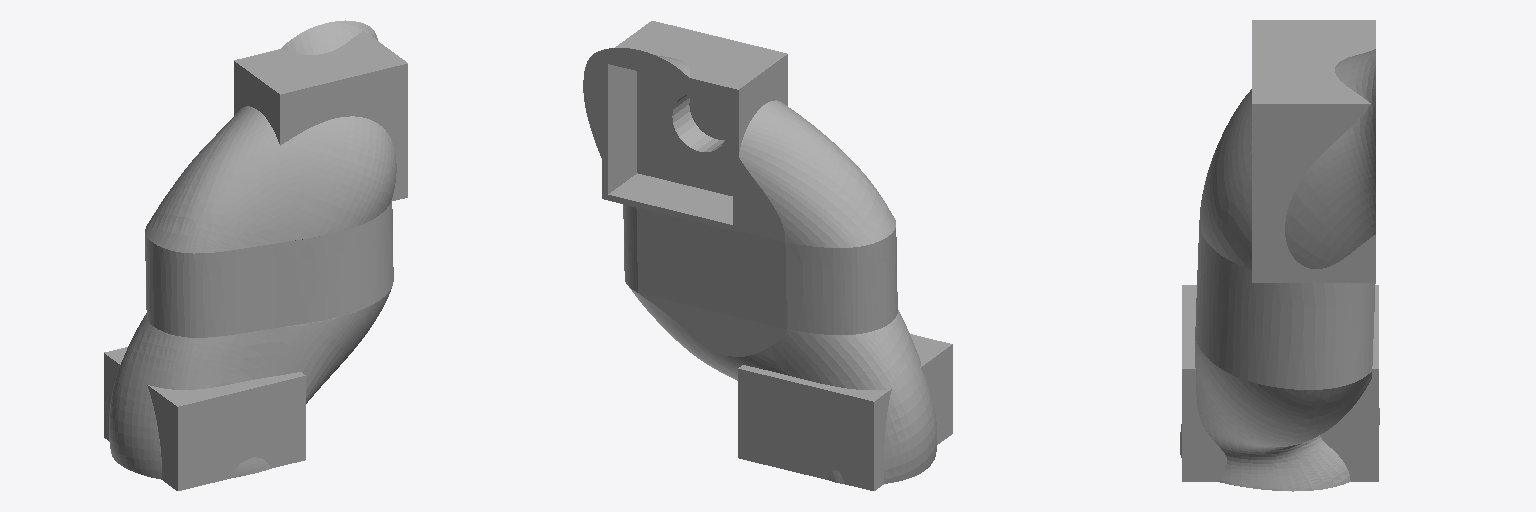
The robot description file, URDF, robot "FrogBot4_top-FrogBot4-z-6_bottom-FrogBot4-z-6":
<?xml version="1.0" ?>
<robot name="FrogBot4_top-FrogBot4-z-6_bottom-FrogBot4-z-6">

<material name="pla_5_percent_infill">
  <color rgba="0.700 0.700 0.700 1.000"/>
</material>

<link name="base_link">
  <inertial>
    <origin xyz="0 0 0" rpy="0 0 0"/>
    <mass value="1.4608203761339813"/>
    <inertia ixx="0.00496034401110324" iyy="0.010259632804669863" izz="0.010457868746855814" ixy="4.519338143051983e-05" iyz="5.808312742508133e-05" ixz="-0.001193761897574285"/>
  </inertial>
  <visual>
    <origin xyz="0 0 0" rpy="0 0 0"/>
    <geometry>
      <mesh filename="simple_meshes/base_link.stl" scale="0.001 0.001 0.001"/>
    </geometry>
    <material name="pla_5_percent_infill"/>
  </visual>
  <collision>
    <origin xyz="0 0 0" rpy="0 0 0"/>
    <geometry>
      <mesh filename="simple_meshes/base_link.stl" scale="0.001 0.001 0.001"/>
    </geometry>
  </collision>
</link>

<link name="body_1_0_1">
  <inertial>
    <origin xyz="-0.039935 -0.102508 -0.020563" rpy="0 0 0"/>
    <mass value="0.08391337745337313"/>
    <inertia ixx="0.000107708054929511" iyy="0.00012337021791642203" izz="3.687093798814488e-05" ixy="9.901716534195895e-07" iyz="2.7818110024143534e-06" ixz="-1.518831388443177e-05"/>
  </inertial>
  <visual>
    <origin xyz="-0.039935 -0.102508 -0.020563" rpy="0 0 0"/>
    <geometry>
      <mesh filename="simple_meshes/body_1_0_1.stl" scale="0.001 0.001 0.001"/>
    </geometry>
    <material name="pla_5_percent_infill"/>
  </visual>
  <collision>
    <origin xyz="-0.039935 -0.102508 -0.020563" rpy="0 0 0"/>
    <geometry>
      <mesh filename="simple_meshes/body_1_0_1.stl" scale="0.001 0.001 0.001"/>
    </geometry>
  </collision>
</link>

<link name="body_1_1_1">
  <inertial>
    <origin xyz="0.084829 -0.102508 0.010182" rpy="0 0 0"/>
    <mass value="0.09690447784595647"/>
    <inertia ixx="8.486720446513165e-05" iyy="0.00013339551480656545" izz="7.315573048027662e-05" ixy="-1.956951799241208e-06" iyz="1.53670200892539e-06" ixz="-2.678860930222318e-05"/>
  </inertial>
  <visual>
    <origin xyz="0.084829 -0.102508 0.010182" rpy="0 0 0"/>
    <geometry>
      <mesh filename="simple_meshes/body_1_1_1.stl" scale="0.001 0.001 0.001"/>
    </geometry>
    <material name="pla_5_percent_infill"/>
  </visual>
  <collision>
    <origin xyz="0.084829 -0.102508 0.010182" rpy="0 0 0"/>
    <geometry>
      <mesh filename="simple_meshes/body_1_1_1.stl" scale="0.001 0.001 0.001"/>
    </geometry>
  </collision>
</link>

<link name="body_1_2_1">
  <inertial>
    <origin xyz="-0.032973 0.102508 -0.03352" rpy="0 0 0"/>
    <mass value="0.09009116526525986"/>
    <inertia ixx="0.0001330463903118687" iyy="0.0001473501853028843" izz="4.0161479036824894e-05" ixy="-2.6035263311660443e-06" iyz="-1.2623762672274528e-05" ixz="-1.2883933912707773e-05"/>
  </inertial>
  <visual>
    <origin xyz="-0.032973 0.102508 -0.03352" rpy="0 0 0"/>
    <geometry>
      <mesh filename="simple_meshes/body_1_2_1.stl" scale="0.001 0.001 0.001"/>
    </geometry>
    <material name="pla_5_percent_infill"/>
  </visual>
  <collision>
    <origin xyz="-0.032973 0.102508 -0.03352" rpy="0 0 0"/>
    <geometry>
      <mesh filename="simple_meshes/body_1_2_1.stl" scale="0.001 0.001 0.001"/>
    </geometry>
  </collision>
</link>

<link name="body_1_3_1">
  <inertial>
    <origin xyz="0.075405 0.102508 -0.000907" rpy="0 0 0"/>
    <mass value="0.102974359676674"/>
    <inertia ixx="9.340508879547398e-05" iyy="0.00014297776703344183" izz="7.645777616253121e-05" ixy="1.735778857889312e-07" iyz="-1.5849478522092682e-06" ixz="-2.6593101054936874e-05"/>
  </inertial>
  <visual>
    <origin xyz="0.075405 0.102508 -0.000907" rpy="0 0 0"/>
    <geometry>
      <mesh filename="simple_meshes/body_1_3_1.stl" scale="0.001 0.001 0.001"/>
    </geometry>
    <material name="pla_5_percent_infill"/>
  </visual>
  <collision>
    <origin xyz="0.075405 0.102508 -0.000907" rpy="0 0 0"/>
    <geometry>
      <mesh filename="simple_meshes/body_1_3_1.stl" scale="0.001 0.001 0.001"/>
    </geometry>
  </collision>
</link>

<link name="body_2_0_1">
  <inertial>
    <origin xyz="-0.025656 -0.145015 0.115436" rpy="0 0 0"/>
    <mass value="0.10814465605857151"/>
    <inertia ixx="8.477950811622541e-05" iyy="0.00010633492797700646" izz="0.00010853723608463895" ixy="-3.9307082537454446e-07" iyz="9.18729375031218e-07" ixz="2.3261636753739044e-05"/>
  </inertial>
  <visual>
    <origin xyz="-0.025656 -0.145015 0.115436" rpy="0 0 0"/>
    <geometry>
      <mesh filename="simple_meshes/body_2_0_1.stl" scale="0.001 0.001 0.001"/>
    </geometry>
    <material name="pla_5_percent_infill"/>
  </visual>
  <collision>
    <origin xyz="-0.025656 -0.145015 0.115436" rpy="0 0 0"/>
    <geometry>
      <mesh filename="simple_meshes/body_2_0_1.stl" scale="0.001 0.001 0.001"/>
    </geometry>
  </collision>
</link>

<link name="body_2_1_1">
  <inertial>
    <origin xyz="0.114857 -0.145661 0.115438" rpy="0 0 0"/>
    <mass value="0.09254938080743046"/>
    <inertia ixx="6.222607374183758e-05" iyy="9.586049762318498e-05" izz="7.748111811619338e-05" ixy="-3.4202023248960586e-06" iyz="5.487652990234133e-06" ixz="2.397725964488036e-05"/>
  </inertial>
  <visual>
    <origin xyz="0.114857 -0.145661 0.115438" rpy="0 0 0"/>
    <geometry>
      <mesh filename="simple_meshes/body_2_1_1.stl" scale="0.001 0.001 0.001"/>
    </geometry>
    <material name="pla_5_percent_infill"/>
  </visual>
  <collision>
    <origin xyz="0.114857 -0.145661 0.115438" rpy="0 0 0"/>
    <geometry>
      <mesh filename="simple_meshes/body_2_1_1.stl" scale="0.001 0.001 0.001"/>
    </geometry>
  </collision>
</link>

<link name="body_2_2_1">
  <inertial>
    <origin xyz="-0.022601 0.152053 0.115436" rpy="0 0 0"/>
    <mass value="0.11724314250921297"/>
    <inertia ixx="9.12895357742952e-05" iyy="0.00011702781650043195" izz="0.00011675662240041721" ixy="-3.2430370847779527e-06" iyz="-7.234377882685272e-07" ixz="2.5753588689109933e-05"/>
  </inertial>
  <visual>
    <origin xyz="-0.022601 0.152053 0.115436" rpy="0 0 0"/>
    <geometry>
      <mesh filename="simple_meshes/body_2_2_1.stl" scale="0.001 0.001 0.001"/>
    </geometry>
    <material name="pla_5_percent_infill"/>
  </visual>
  <collision>
    <origin xyz="-0.022601 0.152053 0.115436" rpy="0 0 0"/>
    <geometry>
      <mesh filename="simple_meshes/body_2_2_1.stl" scale="0.001 0.001 0.001"/>
    </geometry>
  </collision>
</link>

<link name="body_2_3_1">
  <inertial>
    <origin xyz="0.12145 0.146005 0.115436" rpy="0 0 0"/>
    <mass value="0.09660274356269134"/>
    <inertia ixx="7.787953273769715e-05" iyy="8.565177688397378e-05" izz="9.151220984437991e-05" ixy="6.182347057017866e-06" iyz="-9.724222368828663e-06" ixz="1.6623366316983806e-05"/>
  </inertial>
  <visual>
    <origin xyz="0.12145 0.146005 0.115436" rpy="0 0 0"/>
    <geometry>
      <mesh filename="simple_meshes/body_2_3_1.stl" scale="0.001 0.001 0.001"/>
    </geometry>
    <material name="pla_5_percent_infill"/>
  </visual>
  <collision>
    <origin xyz="0.12145 0.146005 0.115436" rpy="0 0 0"/>
    <geometry>
      <mesh filename="simple_meshes/body_2_3_1.stl" scale="0.001 0.001 0.001"/>
    </geometry>
  </collision>
</link>

<joint name="joint_1_0" type="revolute">
  <origin xyz="0.039935 0.102508 0.020563" rpy="0 0 0"/>
  <parent link="base_link"/>
  <child link="body_1_0_1"/>
  <axis xyz="0.0 1.0 0.0"/>
  <limit upper="1.2" lower="-1.2" effort="3.8" velocity="5.4"/>
</joint>
<transmission name="joint_1_0_tran">
  <type>transmission_interface/SimpleTransmission</type>
  <joint name="joint_1_0">
    <hardwareInterface>PositionJointInterface</hardwareInterface>
  </joint>
  <actuator name="joint_1_0_actr">
    <hardwareInterface>PositionJointInterface</hardwareInterface>
    <mechanicalReduction>1</mechanicalReduction>
  </actuator>
</transmission>

<joint name="joint_1_1" type="revolute">
  <origin xyz="-0.084829 0.102508 -0.010182" rpy="0 0 0"/>
  <parent link="base_link"/>
  <child link="body_1_1_1"/>
  <axis xyz="0.0 1.0 0.0"/>
  <limit upper="1.2" lower="-1.2" effort="3.8" velocity="5.4"/>
</joint>
<transmission name="joint_1_1_tran">
  <type>transmission_interface/SimpleTransmission</type>
  <joint name="joint_1_1">
    <hardwareInterface>PositionJointInterface</hardwareInterface>
  </joint>
  <actuator name="joint_1_1_actr">
    <hardwareInterface>PositionJointInterface</hardwareInterface>
    <mechanicalReduction>1</mechanicalReduction>
  </actuator>
</transmission>

<joint name="joint_1_2" type="revolute">
  <origin xyz="0.032973 -0.102508 0.03352" rpy="0 0 0"/>
  <parent link="base_link"/>
  <child link="body_1_2_1"/>
  <axis xyz="0.0 1.0 0.0"/>
  <limit upper="1.2" lower="-1.2" effort="3.8" velocity="5.4"/>
</joint>
<transmission name="joint_1_2_tran">
  <type>transmission_interface/SimpleTransmission</type>
  <joint name="joint_1_2">
    <hardwareInterface>PositionJointInterface</hardwareInterface>
  </joint>
  <actuator name="joint_1_2_actr">
    <hardwareInterface>PositionJointInterface</hardwareInterface>
    <mechanicalReduction>1</mechanicalReduction>
  </actuator>
</transmission>

<joint name="joint_1_3" type="revolute">
  <origin xyz="-0.075405 -0.102508 0.000907" rpy="0 0 0"/>
  <parent link="base_link"/>
  <child link="body_1_3_1"/>
  <axis xyz="0.0 1.0 0.0"/>
  <limit upper="1.2" lower="-1.2" effort="3.8" velocity="5.4"/>
</joint>
<transmission name="joint_1_3_tran">
  <type>transmission_interface/SimpleTransmission</type>
  <joint name="joint_1_3">
    <hardwareInterface>PositionJointInterface</hardwareInterface>
  </joint>
  <actuator name="joint_1_3_actr">
    <hardwareInterface>PositionJointInterface</hardwareInterface>
    <mechanicalReduction>1</mechanicalReduction>
  </actuator>
</transmission>

<joint name="joint_2_0" type="revolute">
  <origin xyz="-0.014279 0.042507 -0.135999" rpy="0 0 0"/>
  <parent link="body_1_0_1"/>
  <child link="body_2_0_1"/>
  <axis xyz="0.0 0.0 1.0"/>
  <limit upper="1.2" lower="-1.2" effort="3.8" velocity="5.4"/>
</joint>
<transmission name="joint_2_0_tran">
  <type>transmission_interface/SimpleTransmission</type>
  <joint name="joint_2_0">
    <hardwareInterface>PositionJointInterface</hardwareInterface>
  </joint>
  <actuator name="joint_2_0_actr">
    <hardwareInterface>PositionJointInterface</hardwareInterface>
    <mechanicalReduction>1</mechanicalReduction>
  </actuator>
</transmission>

<joint name="joint_2_1" type="revolute">
  <origin xyz="-0.030028 0.043153 -0.105256" rpy="0 0 0"/>
  <parent link="body_1_1_1"/>
  <child link="body_2_1_1"/>
  <axis xyz="0.0 0.0 1.0"/>
  <limit upper="1.2" lower="-1.2" effort="3.8" velocity="5.4"/>
</joint>
<transmission name="joint_2_1_tran">
  <type>transmission_interface/SimpleTransmission</type>
  <joint name="joint_2_1">
    <hardwareInterface>PositionJointInterface</hardwareInterface>
  </joint>
  <actuator name="joint_2_1_actr">
    <hardwareInterface>PositionJointInterface</hardwareInterface>
    <mechanicalReduction>1</mechanicalReduction>
  </actuator>
</transmission>

<joint name="joint_2_2" type="revolute">
  <origin xyz="-0.010372 -0.049545 -0.148956" rpy="0 0 0"/>
  <parent link="body_1_2_1"/>
  <child link="body_2_2_1"/>
  <axis xyz="0.0 0.0 1.0"/>
  <limit upper="1.2" lower="-1.2" effort="3.8" velocity="5.4"/>
</joint>
<transmission name="joint_2_2_tran">
  <type>transmission_interface/SimpleTransmission</type>
  <joint name="joint_2_2">
    <hardwareInterface>PositionJointInterface</hardwareInterface>
  </joint>
  <actuator name="joint_2_2_actr">
    <hardwareInterface>PositionJointInterface</hardwareInterface>
    <mechanicalReduction>1</mechanicalReduction>
  </actuator>
</transmission>

<joint name="joint_2_3" type="revolute">
  <origin xyz="-0.046045 -0.043497 -0.116343" rpy="0 0 0"/>
  <parent link="body_1_3_1"/>
  <child link="body_2_3_1"/>
  <axis xyz="0.0 0.0 1.0"/>
  <limit upper="1.2" lower="-1.2" effort="3.8" velocity="5.4"/>
</joint>
<transmission name="joint_2_3_tran">
  <type>transmission_interface/SimpleTransmission</type>
  <joint name="joint_2_3">
    <hardwareInterface>PositionJointInterface</hardwareInterface>
  </joint>
  <actuator name="joint_2_3_actr">
    <hardwareInterface>PositionJointInterface</hardwareInterface>
    <mechanicalReduction>1</mechanicalReduction>
  </actuator>
</transmission>

</robot>

--- Facts derived from the render (not from the file) ---
3 views of the same robot in one strip: view 1: azimuth 30°, elevation 25°; view 2: azimuth 150°, elevation 25°; view 3: azimuth 270°, elevation 25° (orthographic).
Robot: FrogBot4_top-FrogBot4-z-6_bottom-FrogBot4-z-6 — 9 links, 8 joints (8 revolute); root link base_link; default pose: all joints at 0.
Visible links, largest first — view 1: body_1_3_1; view 2: body_1_3_1; view 3: body_1_3_1.
Boxes of the visible links, box(x1,y1,x2,y2) form: body_1_3_1: box(104, 20, 407, 490); body_1_3_1: box(583, 21, 952, 490); body_1_3_1: box(1180, 20, 1379, 491).
Bounding box of the posed robot: 0.1107 × 0.0492 × 0.1301 m (x, y, z).
Meshes: 9 distinct files referenced, 1 mesh visuals loaded (1 binary STL); not drawn: 8 (reference not matched to a file when rendering).